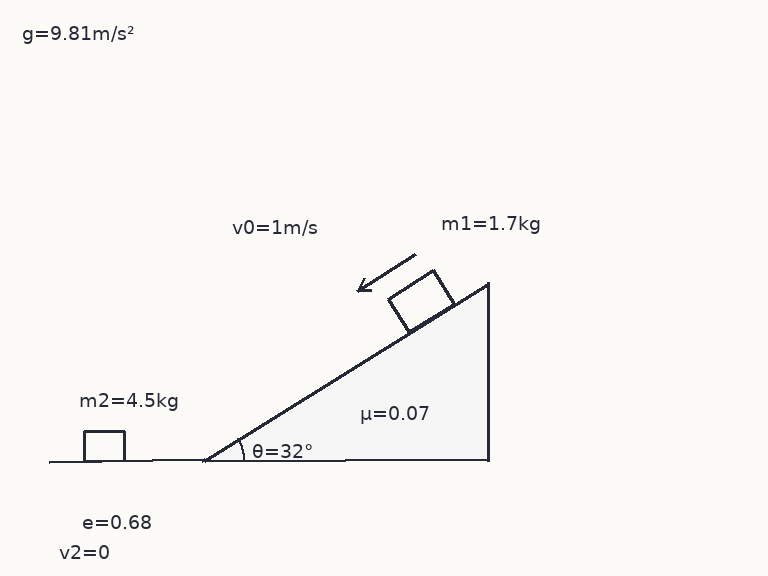block: (386, 269, 456, 334), (82, 429, 126, 462)
ramp: (202, 281, 489, 462)
